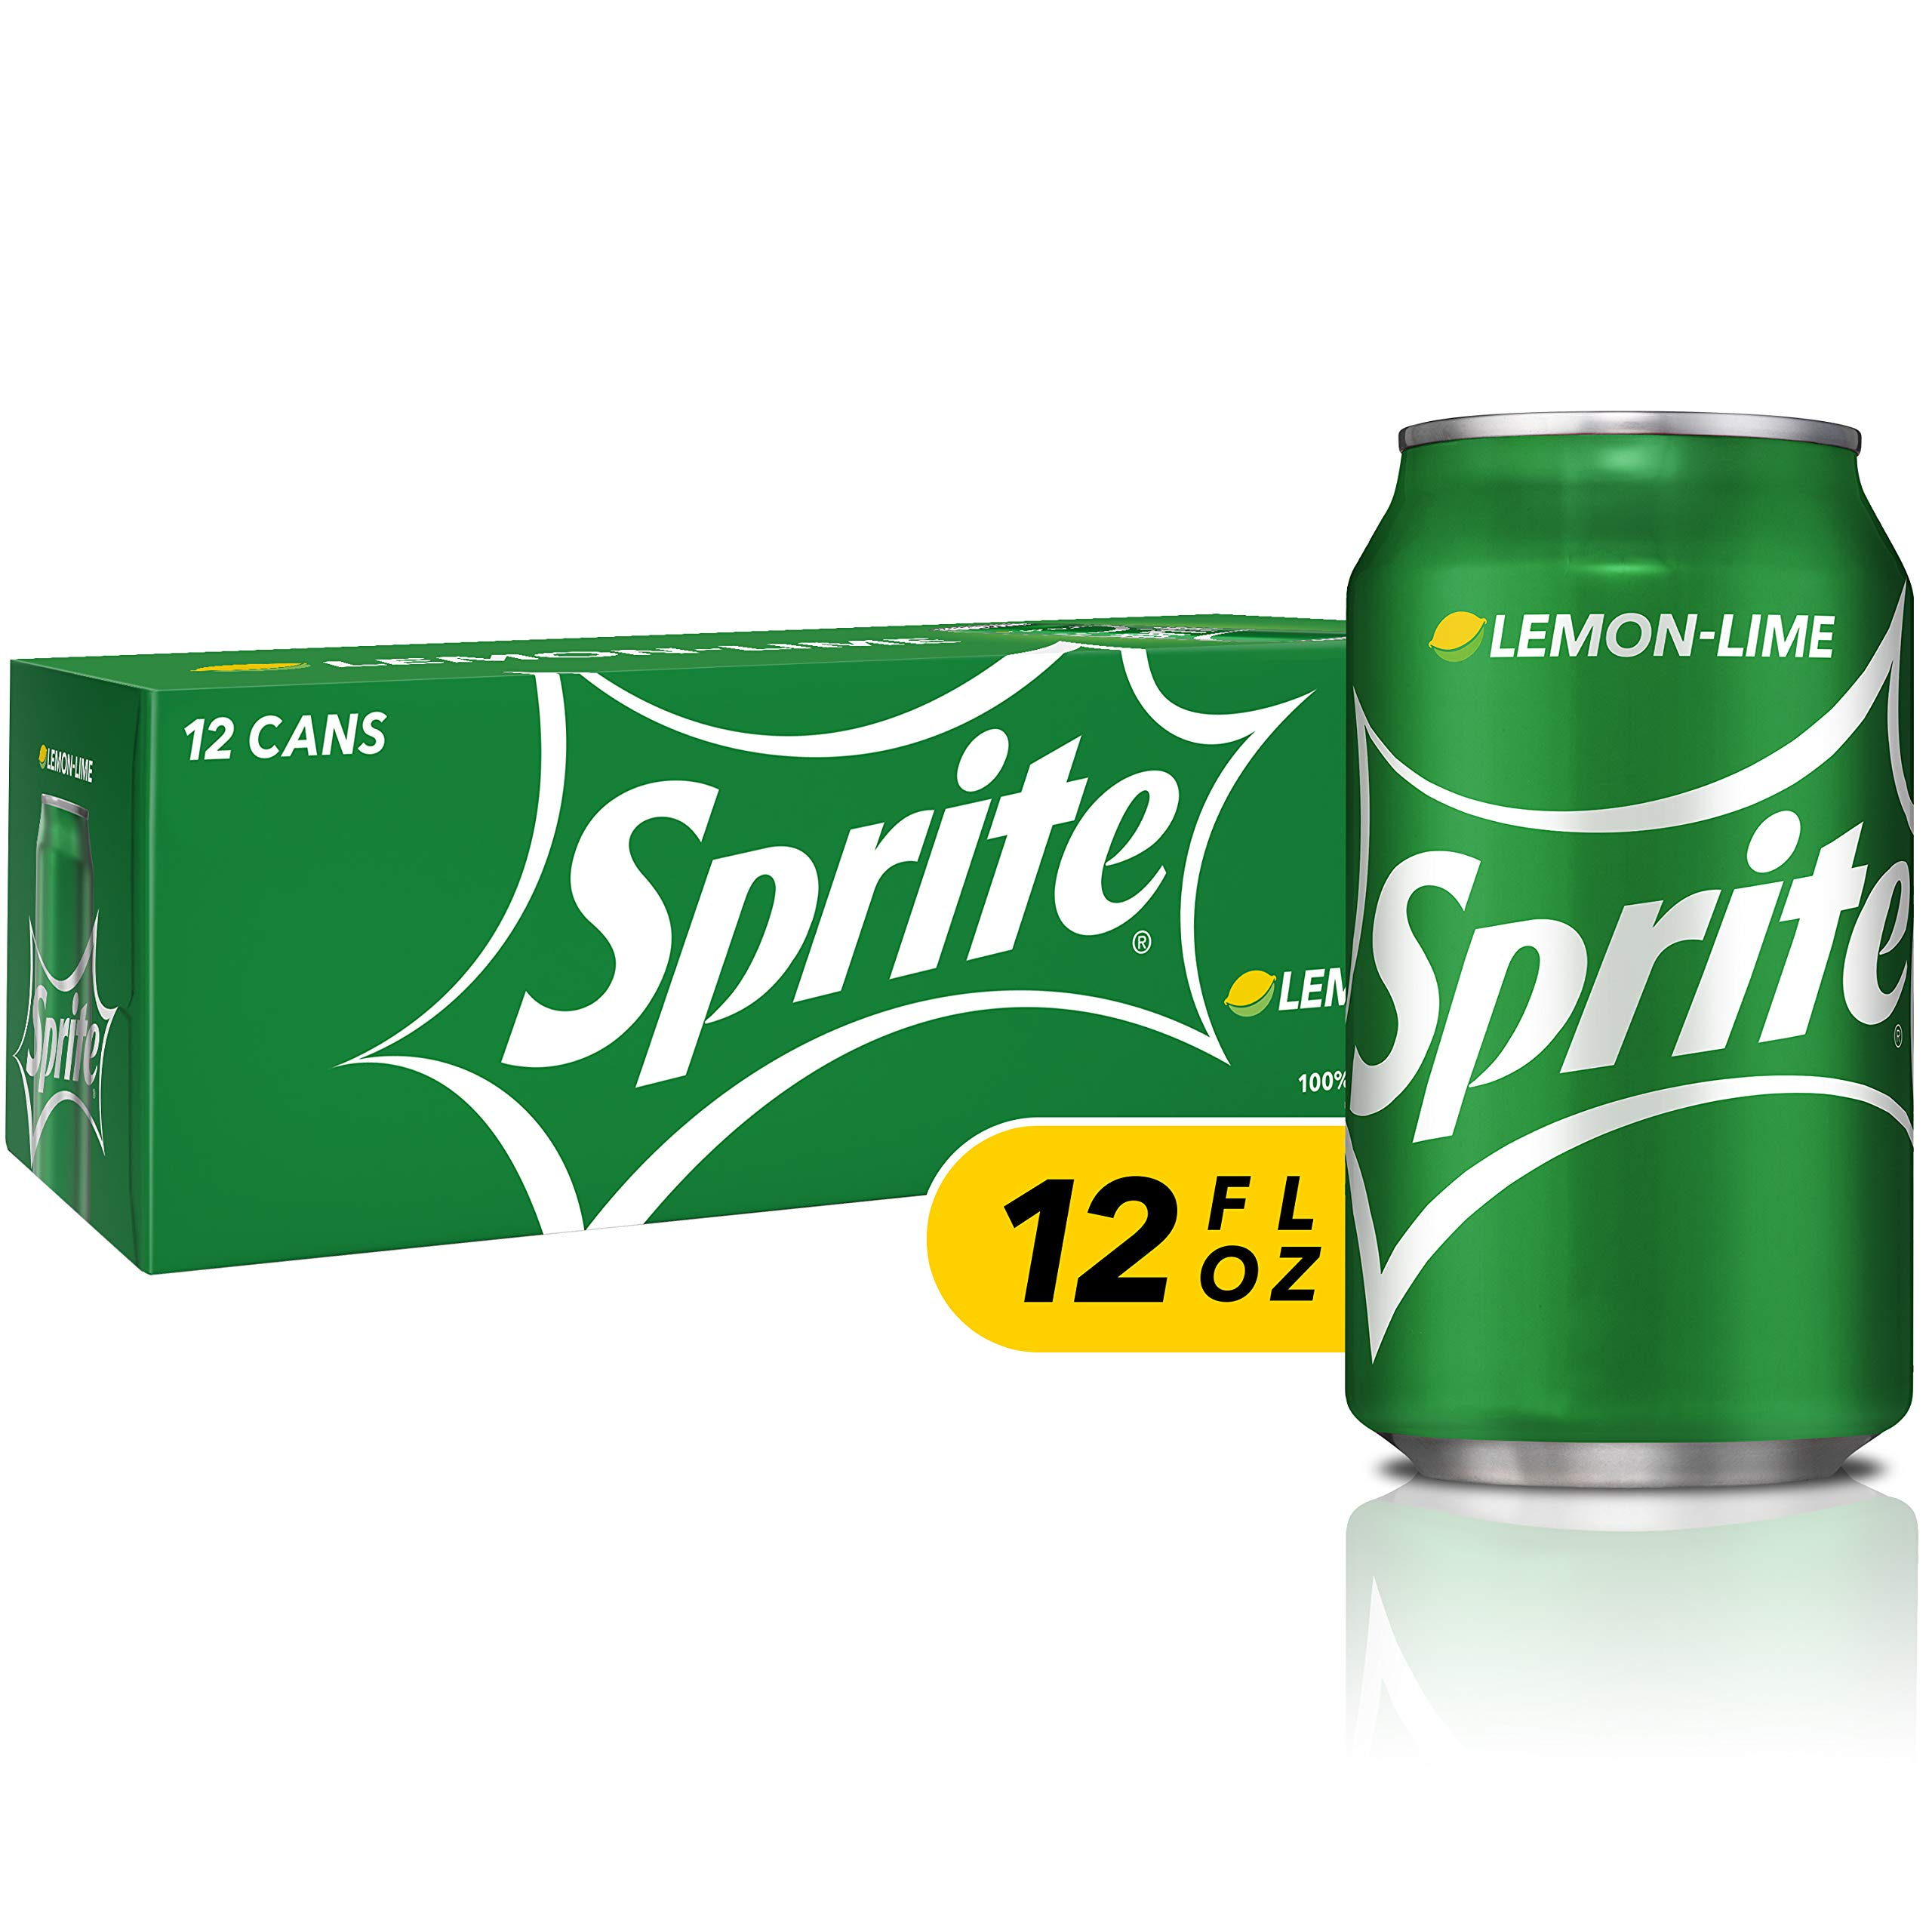Sprite: (1352, 448, 1914, 1479), (283, 702, 1350, 1131)
